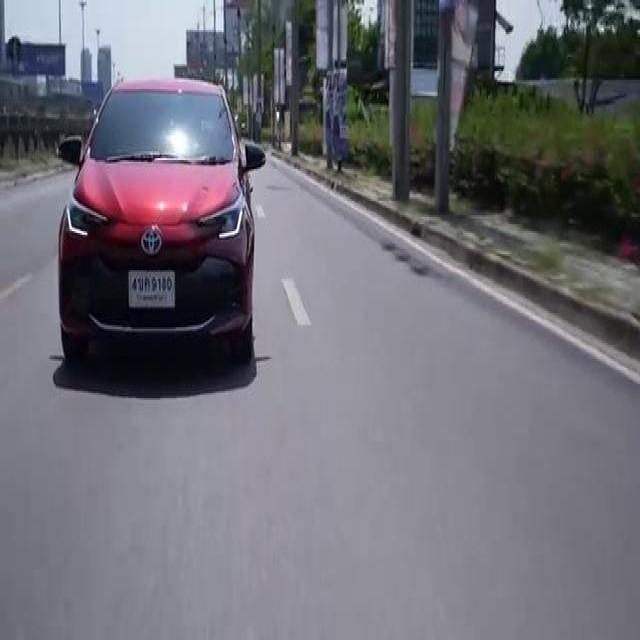Hatchback: (58, 78, 266, 361)
